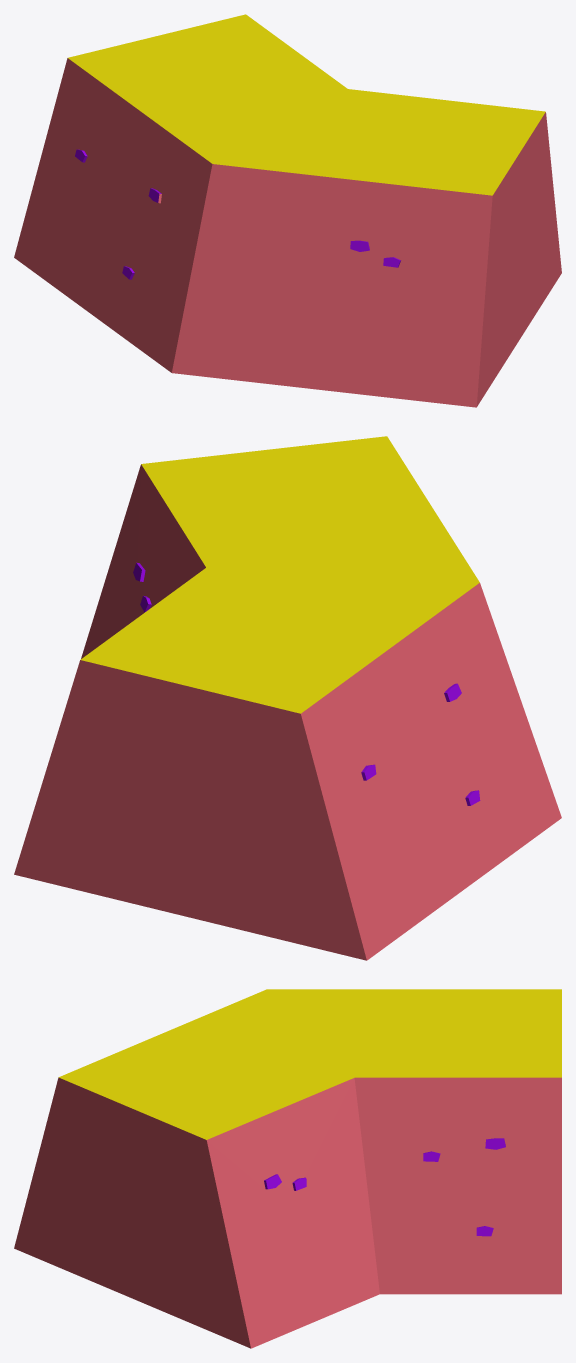
The model's file is ground-japan-elbow.fbx.
3 views of the same model, one above another, from view 1: azimuth 30°, elevation 25°; view 2: azimuth 150°, elevation 25°; view 3: azimuth 270°, elevation 25° (orthographic). The views are drawn at different scales.
Visible parts, largest first — view 1: ground-japan-elbow; view 2: ground-japan-elbow; view 3: ground-japan-elbow.
Part boxes in pixels (box(x1,y1,x2,y2)): ground-japan-elbow: box(14, 14, 561, 407); ground-japan-elbow: box(14, 436, 561, 960); ground-japan-elbow: box(14, 989, 561, 1348).
Bounding box in the file's own units: 22.15 × 10 × 26.15.
